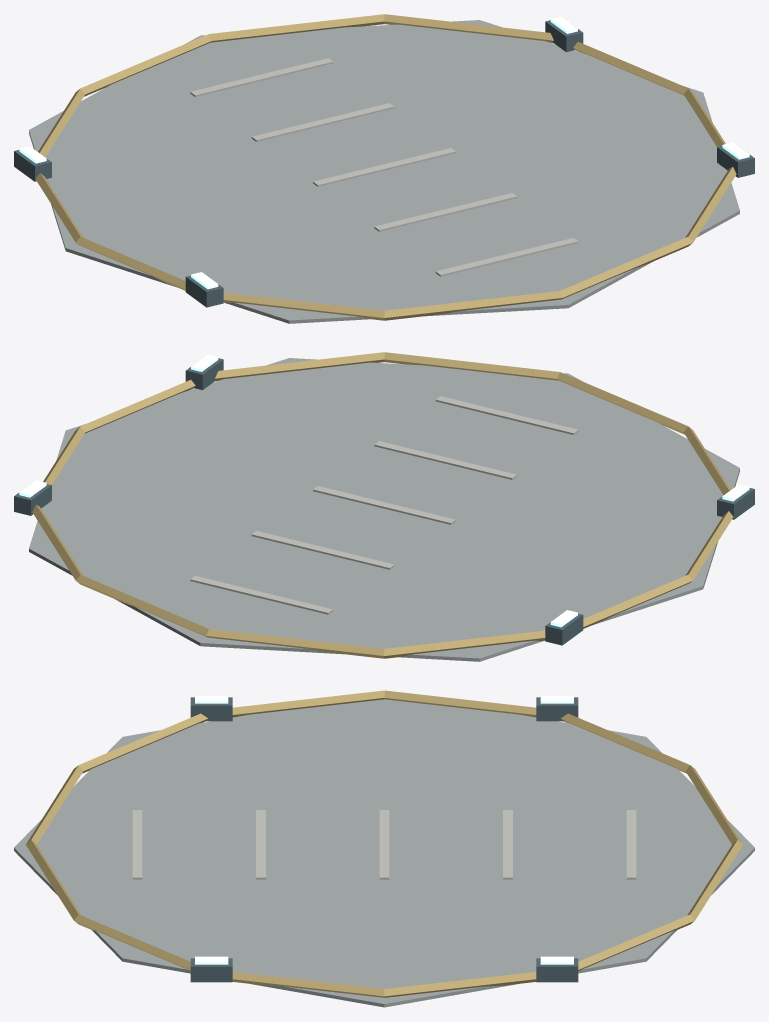
Rendered from complex-low.glb.
3 views of the same model, one above another, from view 1: azimuth 30°, elevation 25°; view 2: azimuth 150°, elevation 25°; view 3: azimuth 270°, elevation 25° (orthographic).
Visible parts, largest first — view 1: asset_complex__FP_Baked, asset_complex__FP_Signal; view 2: asset_complex__FP_Baked, asset_complex__FP_Signal; view 3: asset_complex__FP_Baked, asset_complex__FP_Signal.
Boxes of the visible parts, x1,y1,x2,y2 form: asset_complex__FP_Baked: [14, 14, 754, 323]; asset_complex__FP_Signal: [19, 16, 749, 289]; asset_complex__FP_Baked: [14, 352, 754, 661]; asset_complex__FP_Signal: [19, 354, 749, 627]; asset_complex__FP_Baked: [14, 690, 754, 1007]; asset_complex__FP_Signal: [195, 695, 573, 964].
Size of the model in its own units: 6 by 0.1975 by 6.
